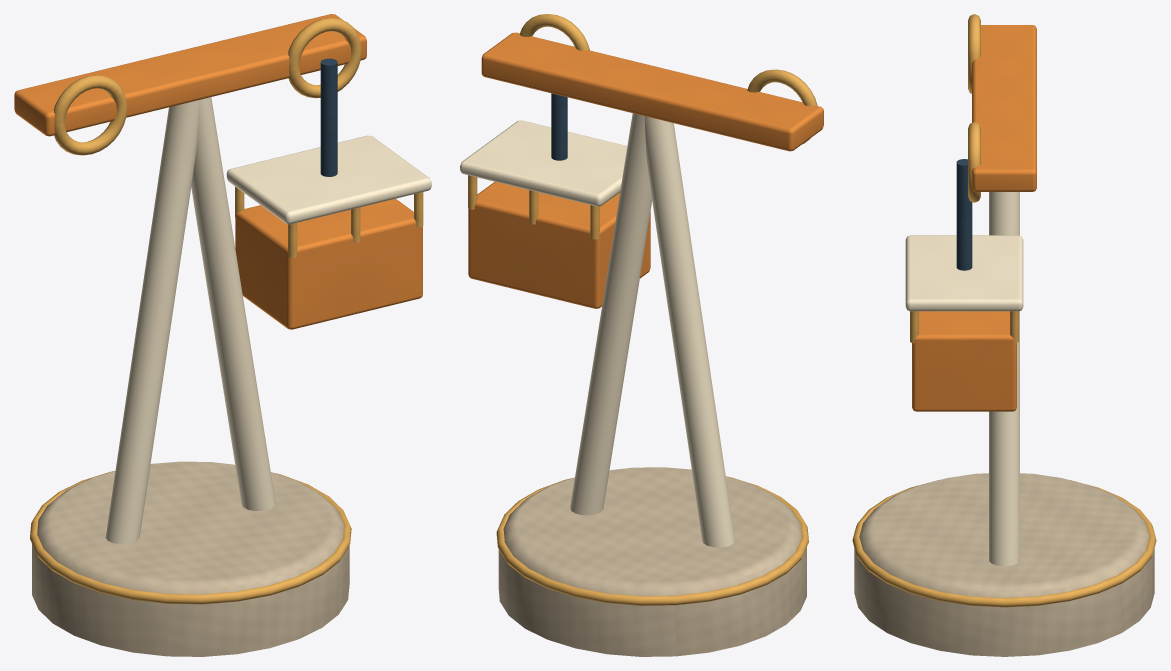
The model's file is bergwelt.glb.
The picture shows the model from 3 angles, left to right: view 1: azimuth 30°, elevation 25°; view 2: azimuth 150°, elevation 25°; view 3: azimuth 270°, elevation 25°; orthographic projection. The views are drawn at different scales.
Parts seen in each view (by area): view 1: bergwelt_lod0; view 2: bergwelt_lod0; view 3: bergwelt_lod0.
Part boxes in pixels (left/top/right/bottom): bergwelt_lod0: left=14, top=14, right=431, bottom=656; bergwelt_lod0: left=460, top=14, right=823, bottom=656; bergwelt_lod0: left=852, top=14, right=1156, bottom=656.
Size of what is drawn, in the model's own units: 7.64 by 11.51 by 6.08.
Materials: 5 (5 with a texture image).
